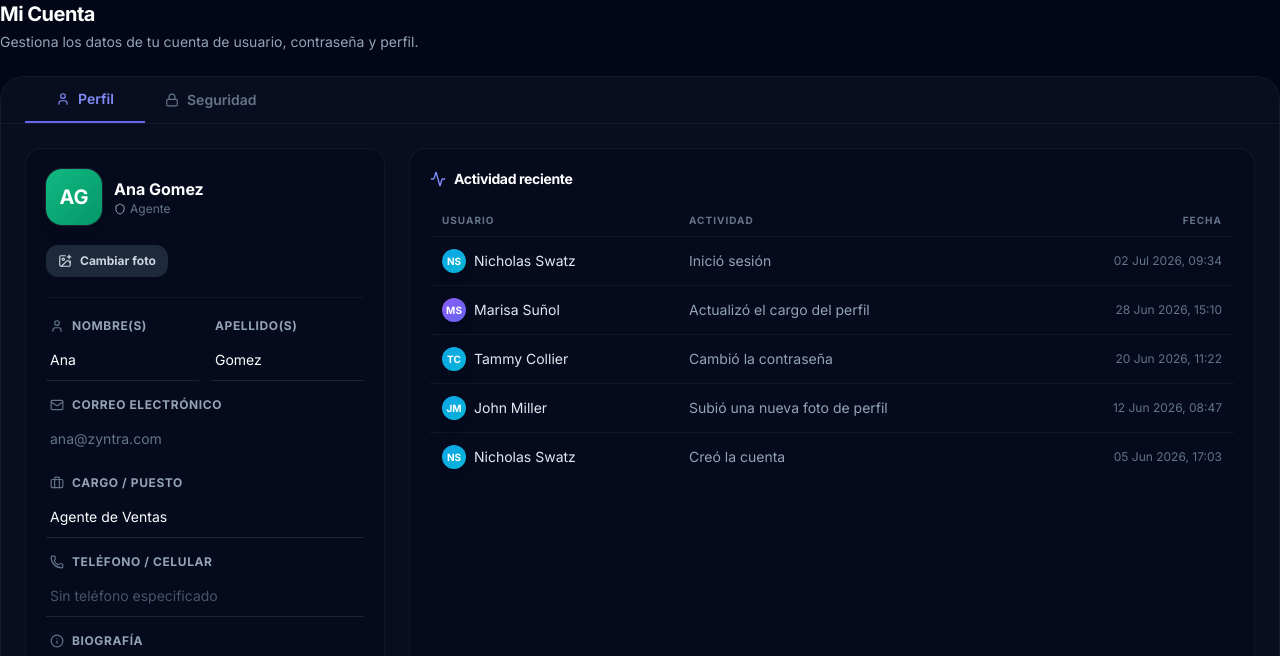
Test: MyAccountPage › shows the error message and keeps the form filled when the API rejects the request
The image size is (1280, 656).
Click the button "Seguridad" at (211, 100), box [145, 77, 276, 123]
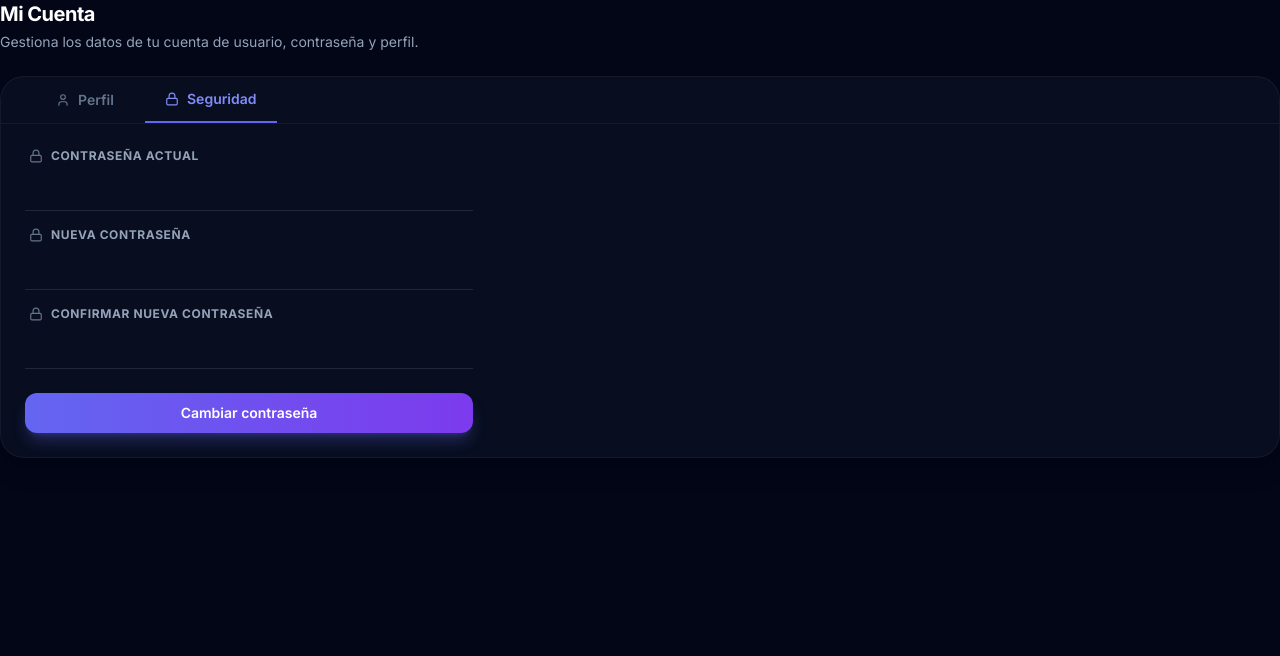
Type "WrongPassword1" into the password field labelled "Contraseña actual" at (249, 190), box [25, 170, 473, 211]
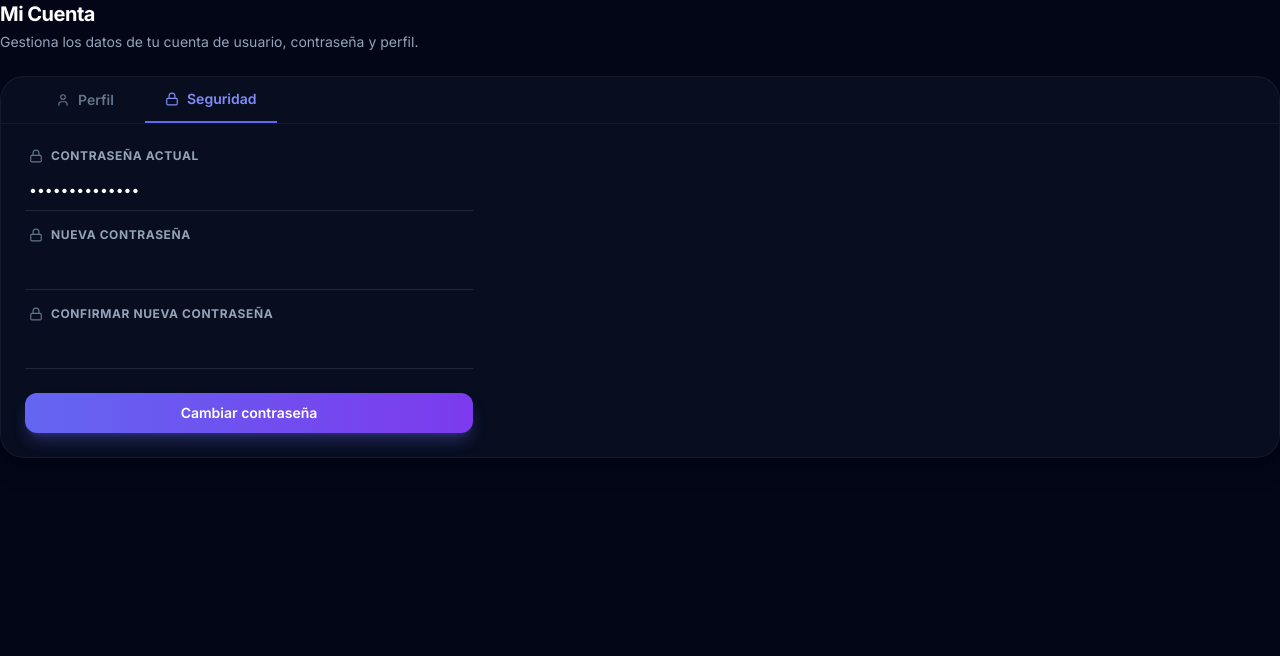
Type "NewPassword1" into the password field labelled "Nueva contraseña" at (249, 270), box [25, 249, 473, 290]
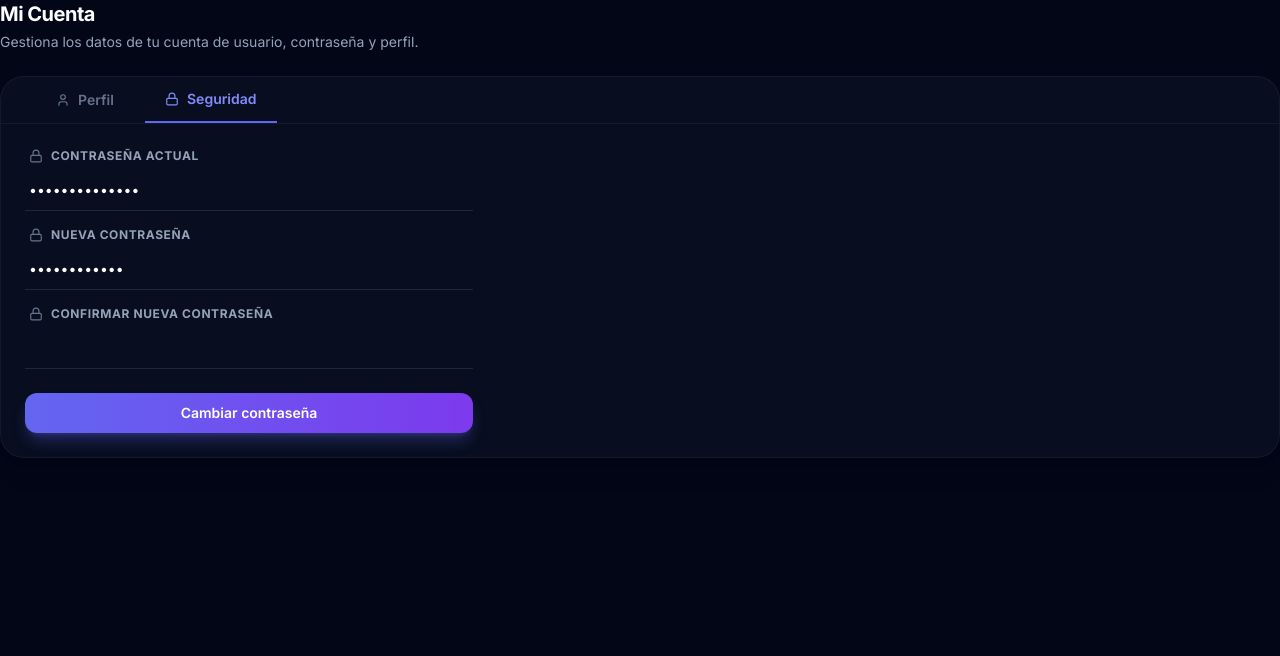
Type "NewPassword1" into the password field labelled "Confirmar nueva contraseña" at (249, 348), box [25, 328, 473, 369]
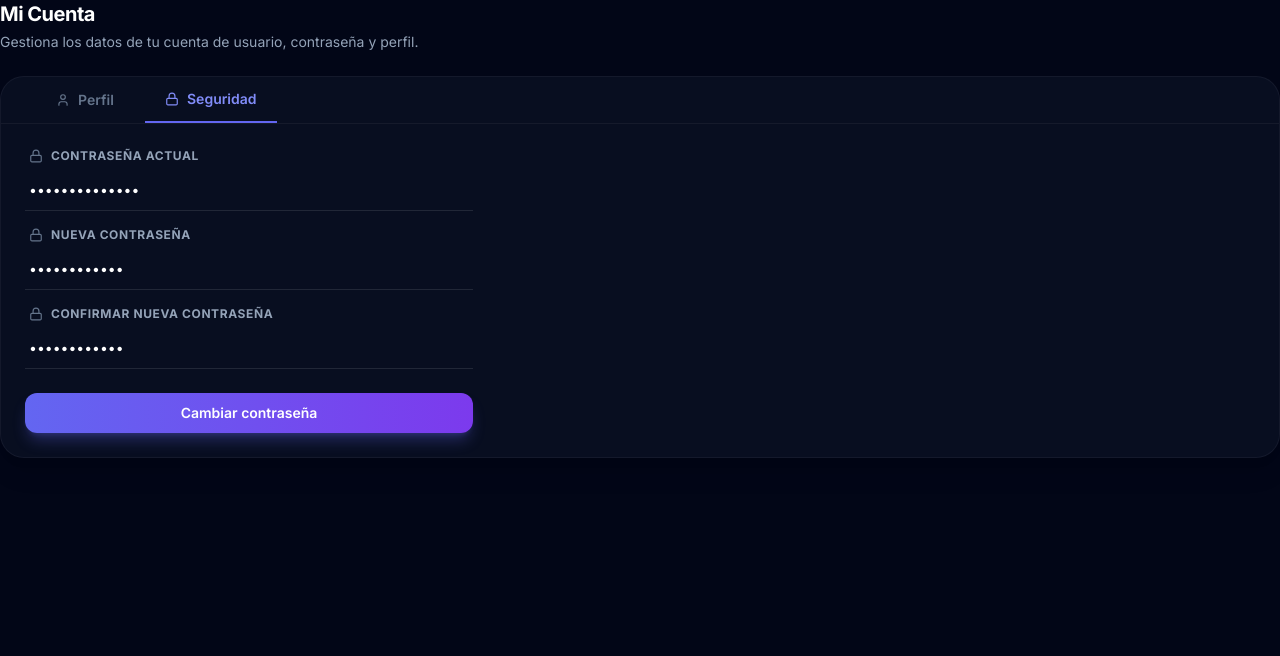
Click the button "Cambiar contraseña" at (249, 413), box [25, 393, 473, 433]
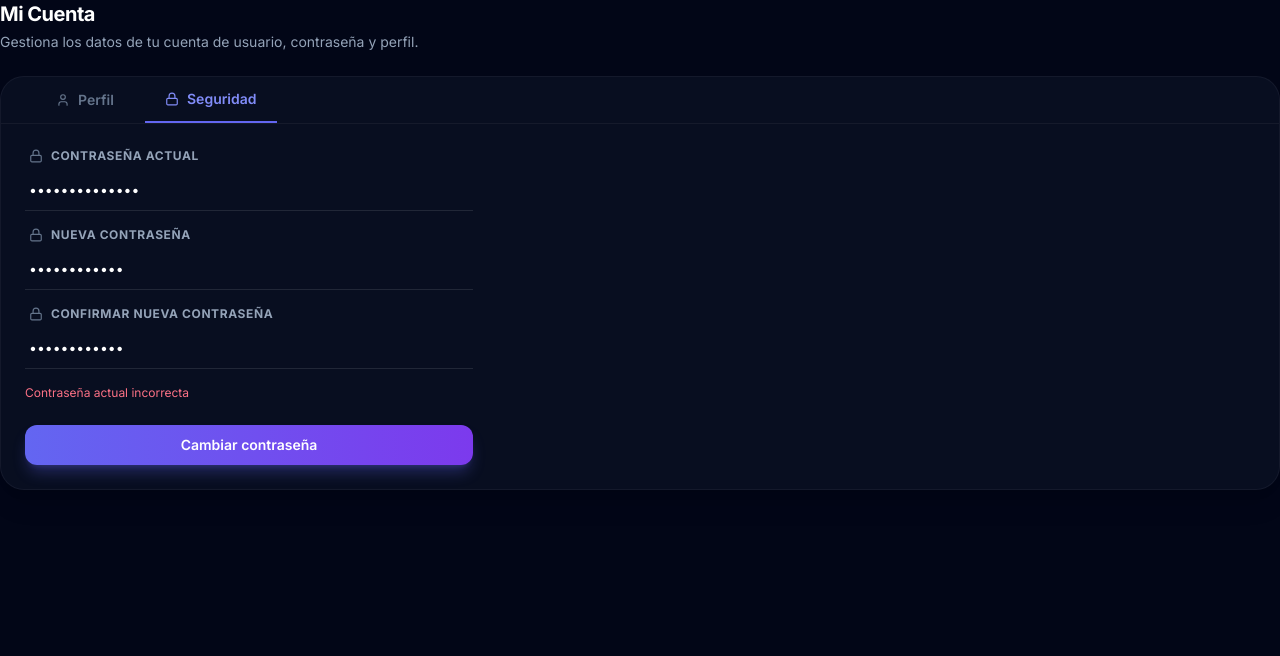
Check: the text "Contraseña actual incorrecta" is shown, box [25, 385, 189, 400]
